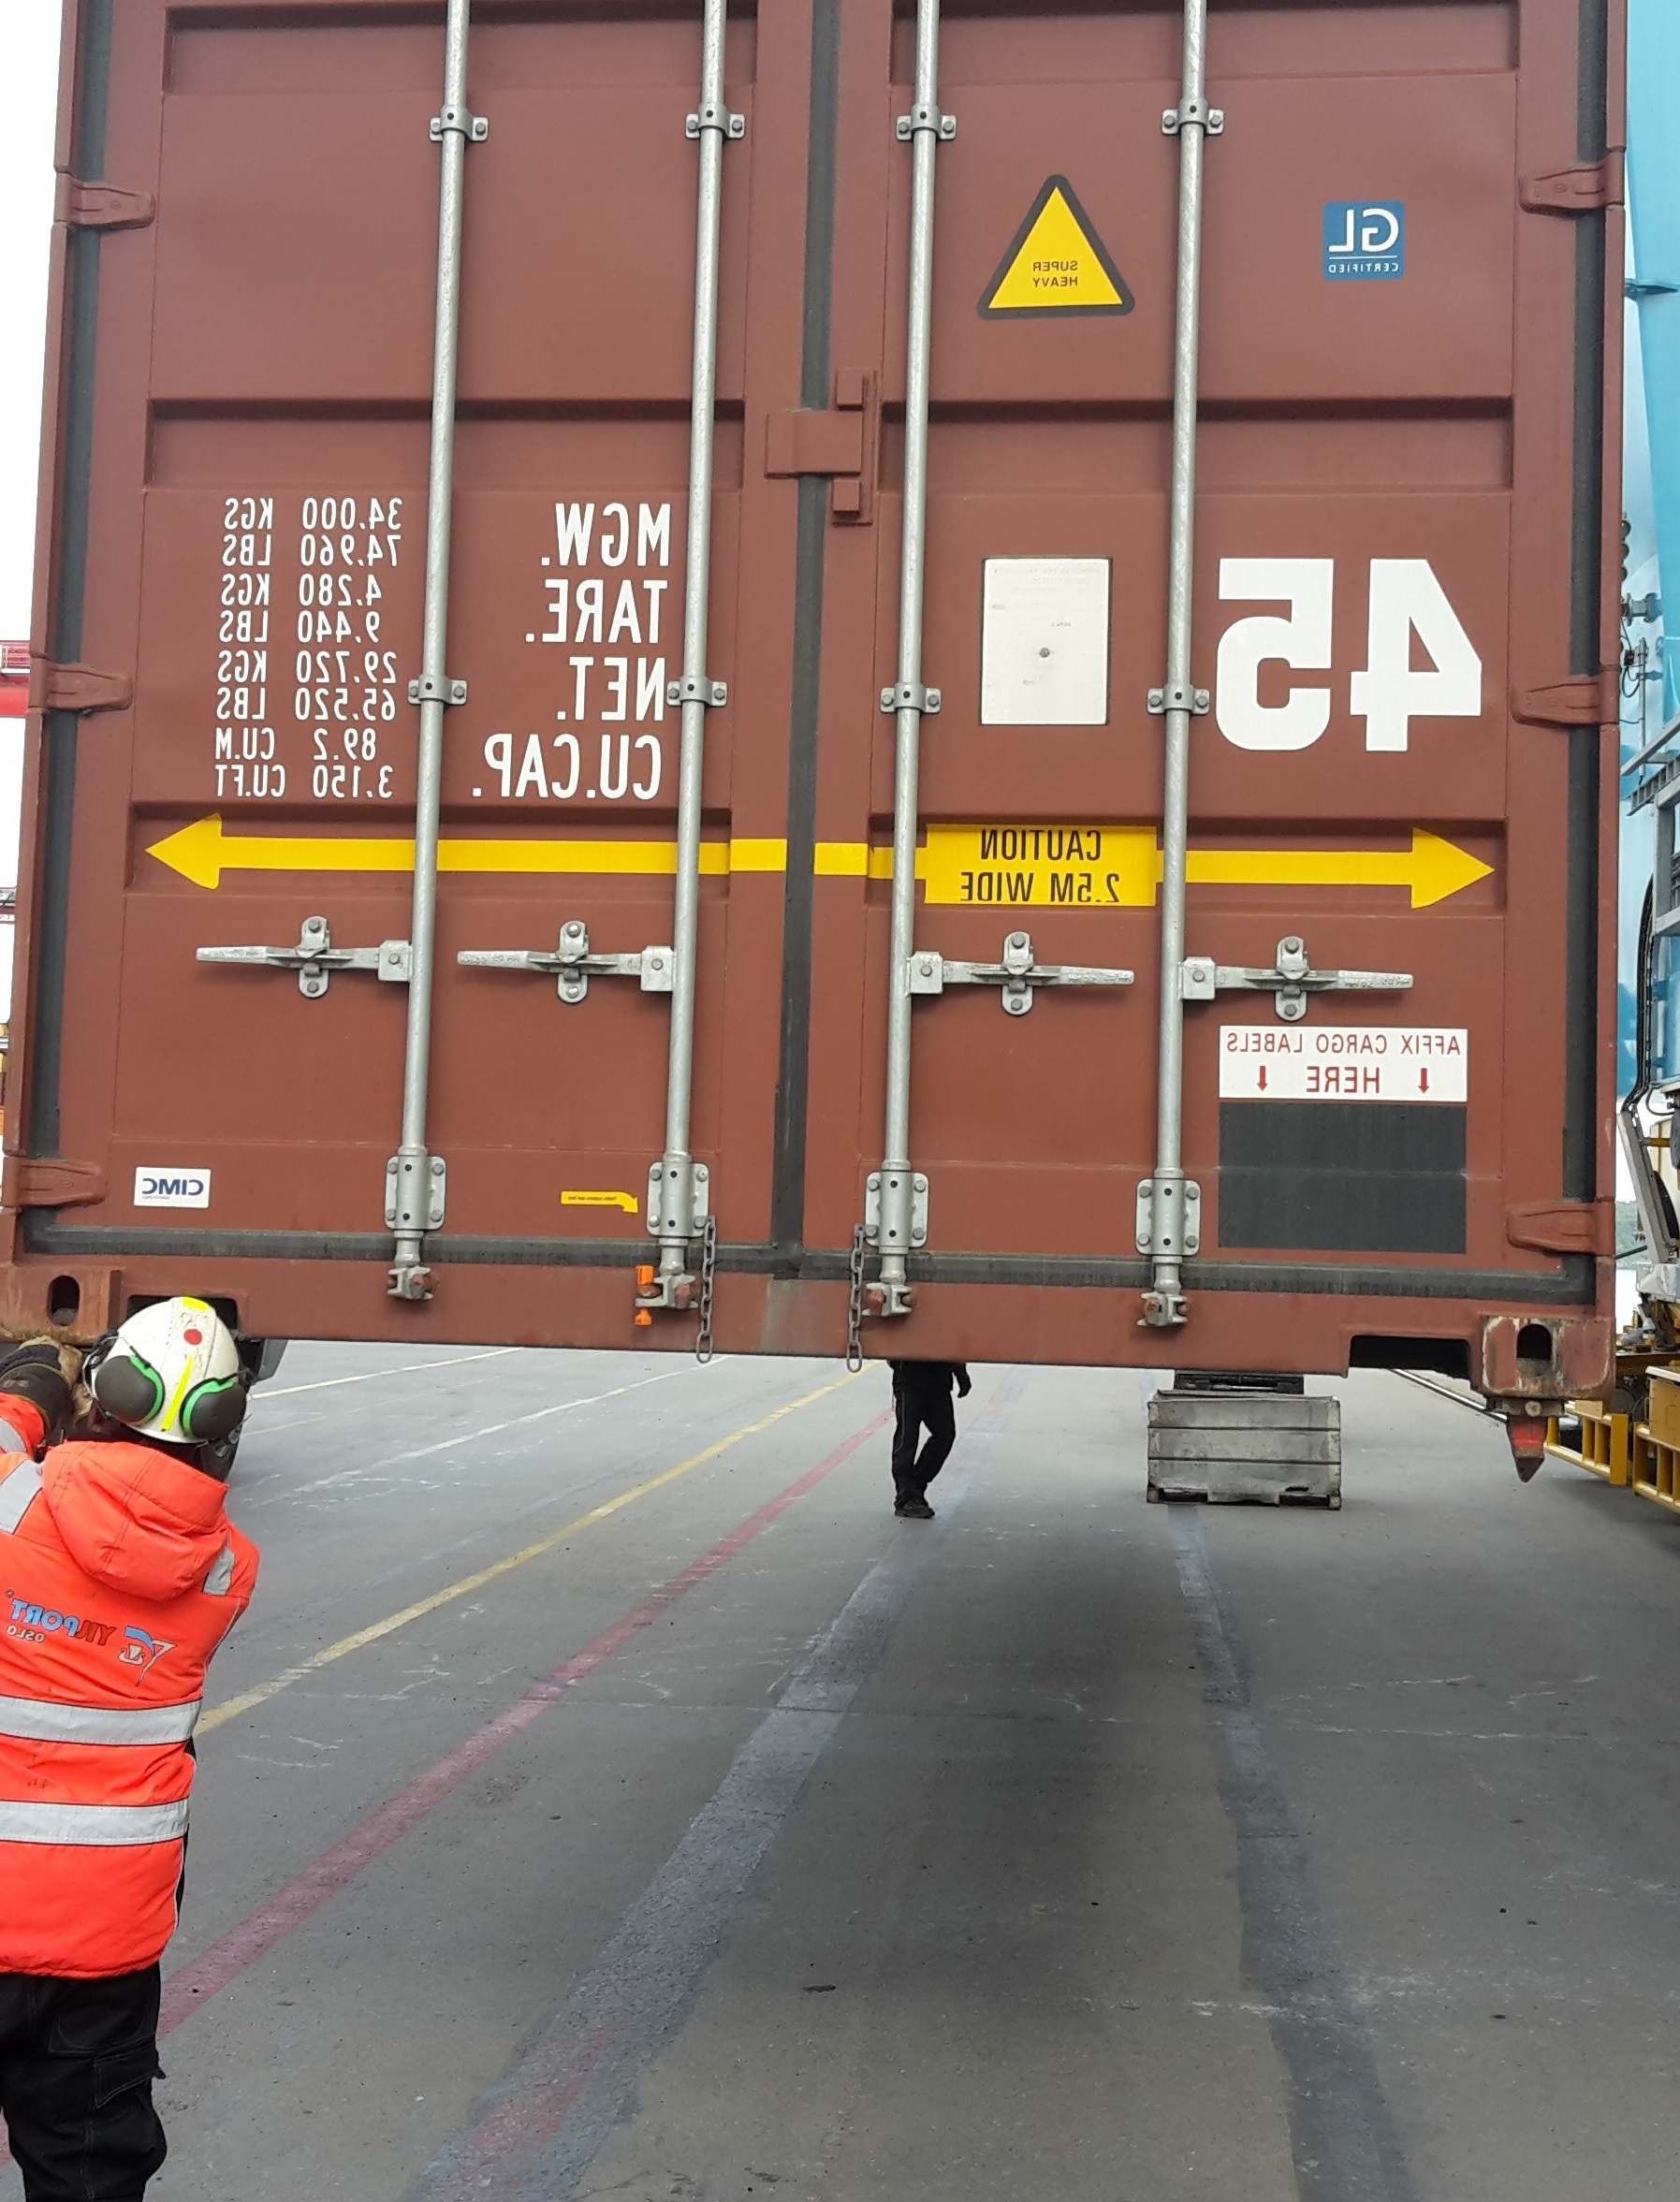container_door: (16, 2, 1634, 1339)
